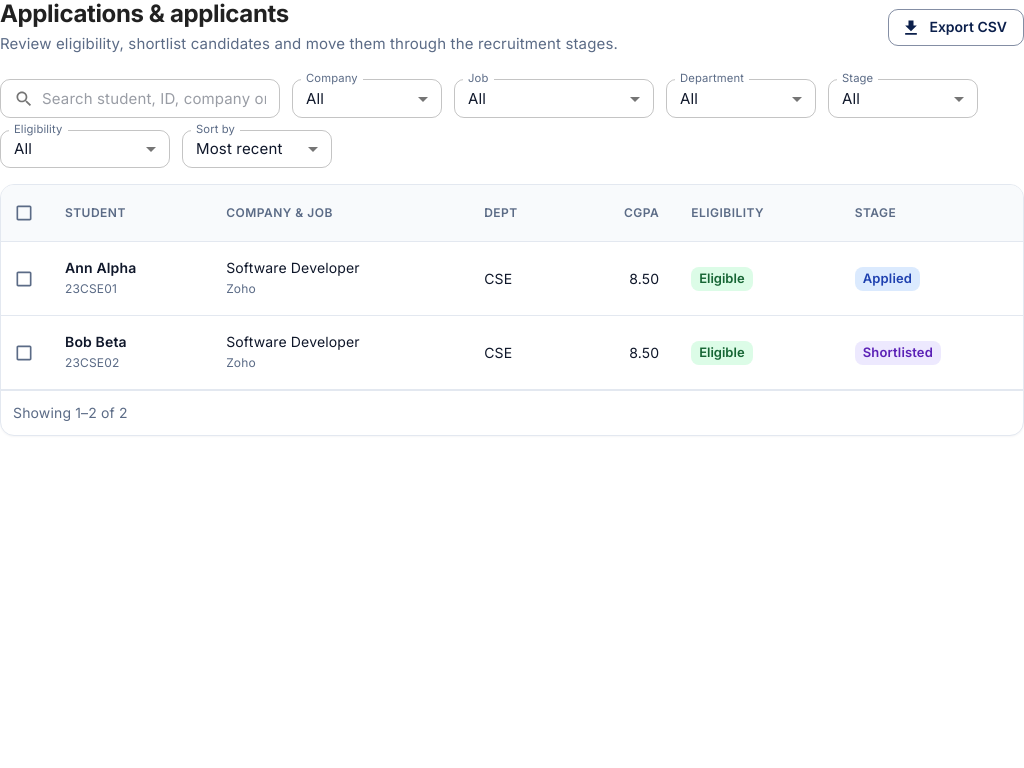
Scenario: faculty applications page › a partial failure lists each reason in a "not moved" dialog and keeps failed rows selected
This screenshot has width=1024, height=768.
Click the checkbox named "Select row" at (24, 279), box [14,269,34,289]
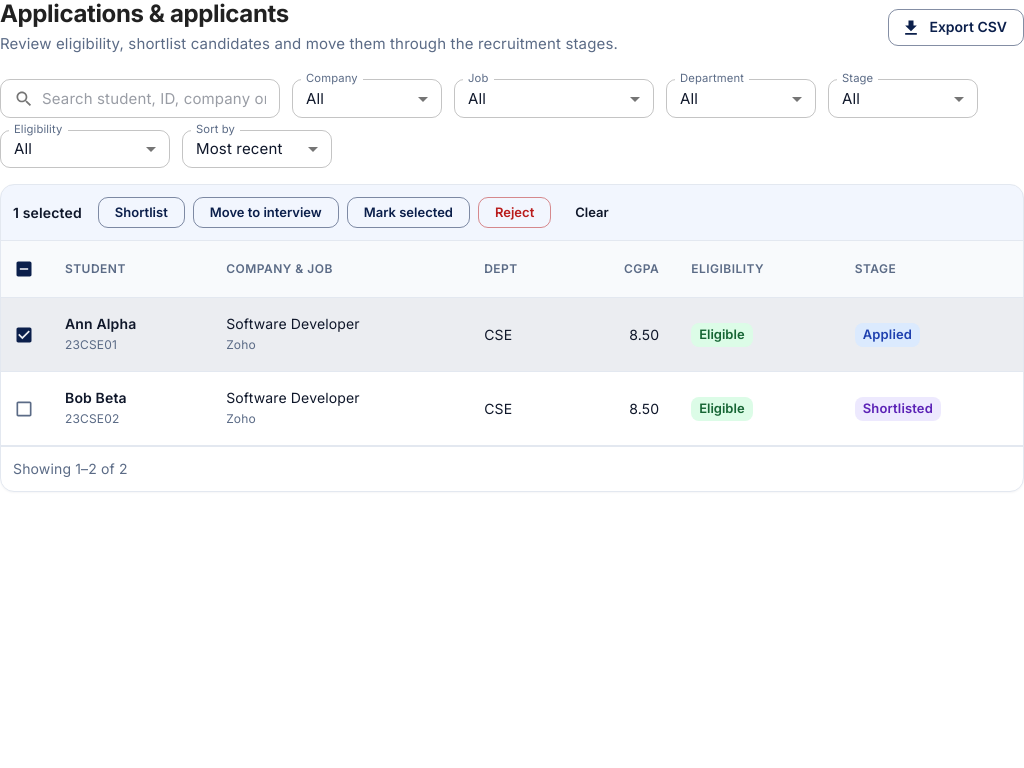
Click the checkbox named "Select row" at (24, 408), box [14,398,34,418]
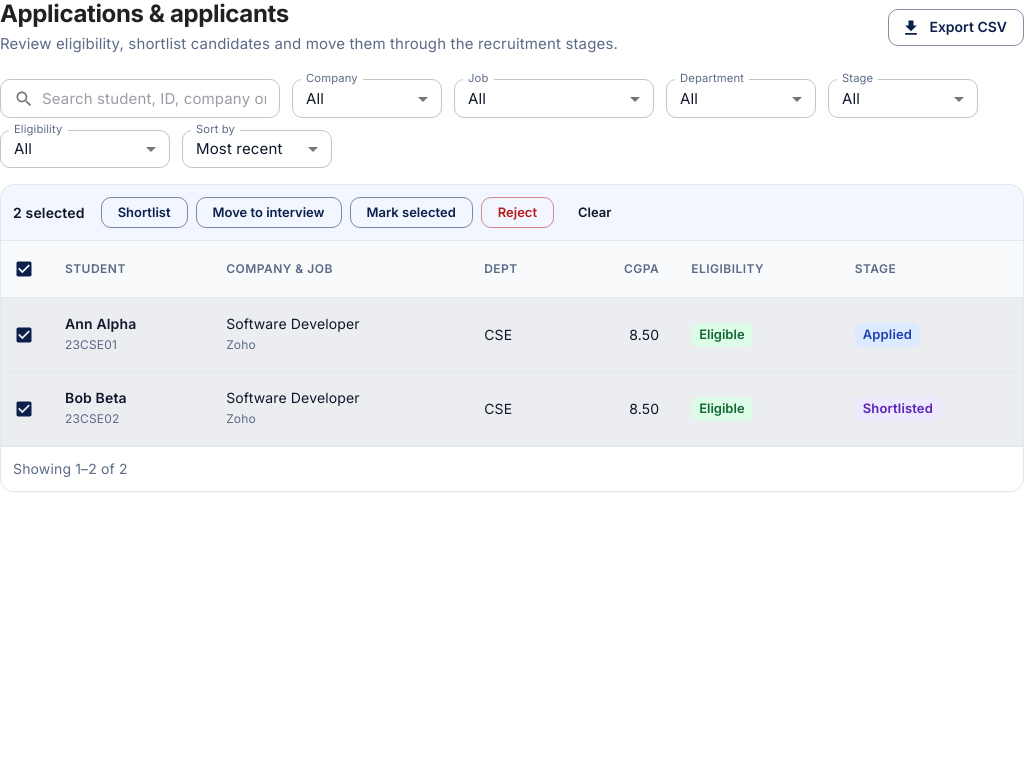
Click the button "Mark selected" at (411, 213), box [350,197,473,228]
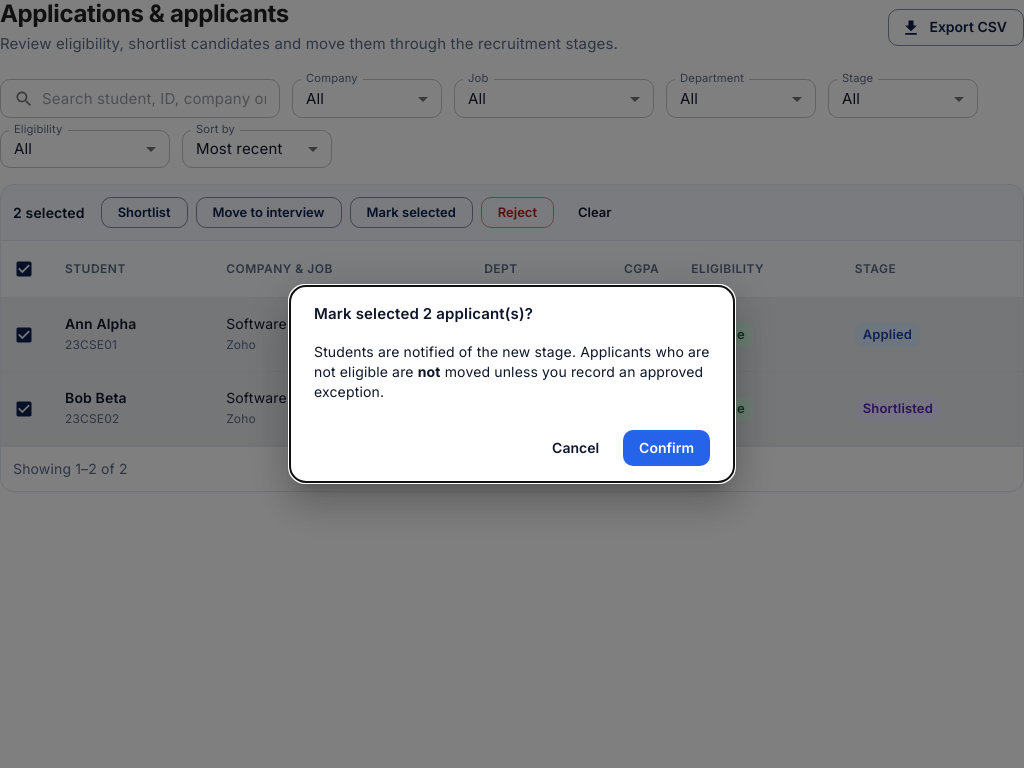
Click the button "Confirm" at (667, 448), box [623,430,710,466]
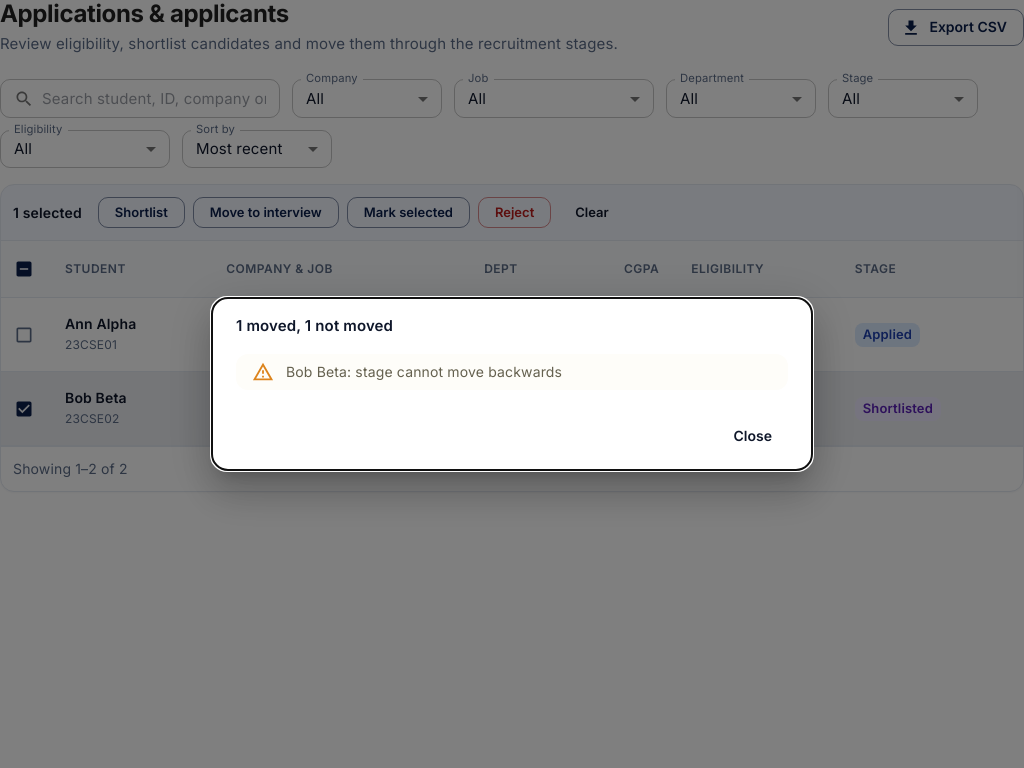
Check: the text "Bob Beta: stage cannot move backwards" is shown, box [286,363,562,380]
Click the button "Close" at (753, 436), box [718,418,788,454]
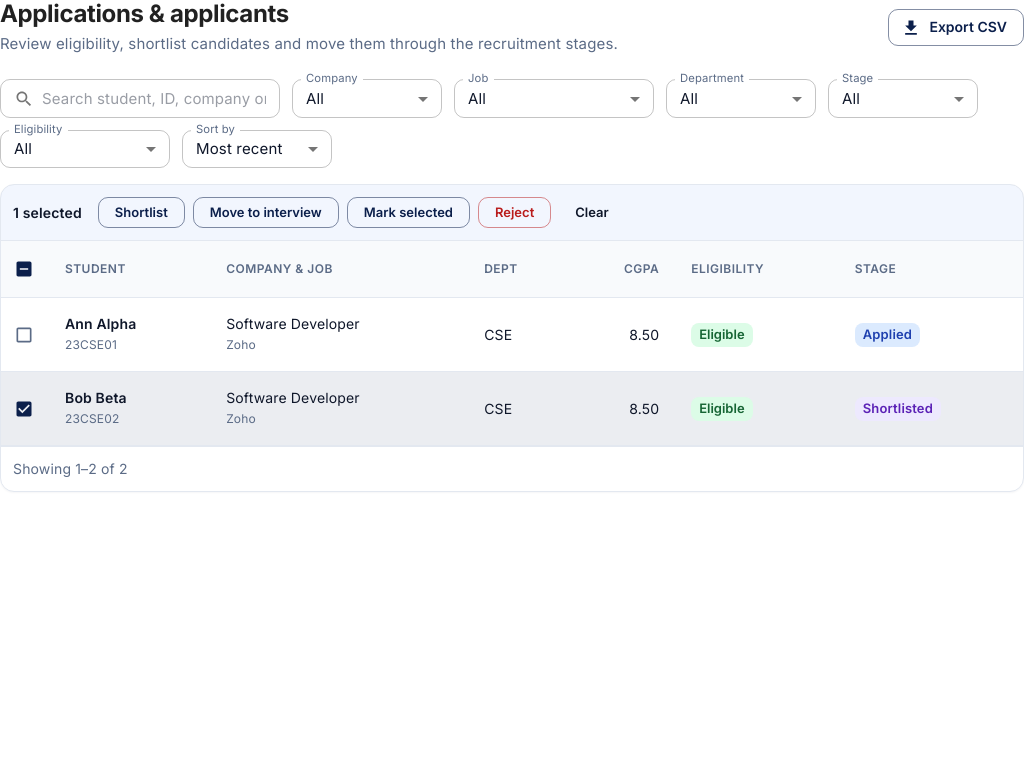
Check: the text "1 selected" is shown, box [13,203,82,223]
Check: the heading "1 moved, 1 not moved" is gone
